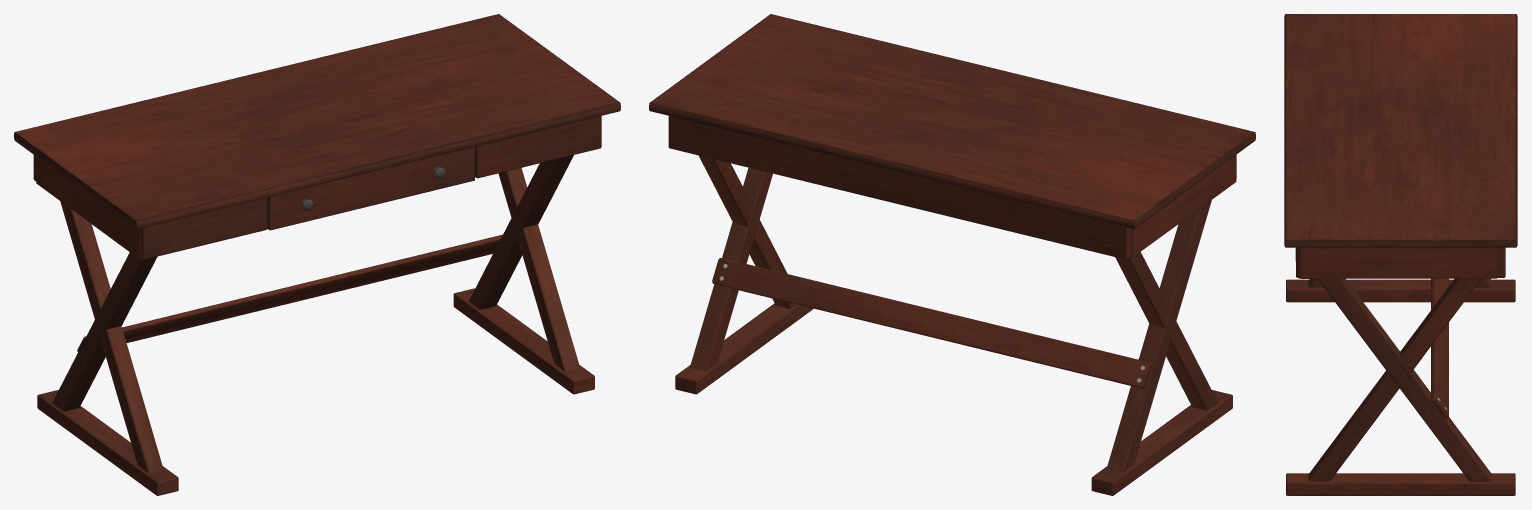
3 renders of one model, left to right at view 1: azimuth 30°, elevation 25°; view 2: azimuth 150°, elevation 25°; view 3: azimuth 270°, elevation 25°, orthographic. The views are drawn at different scales.
Visible parts, largest first — view 1: RootNode; view 2: RootNode; view 3: RootNode.
Part boxes in pixels (x1,y1,x2,y2): RootNode: (14,14,620,495); RootNode: (649,14,1255,495); RootNode: (1284,14,1517,495).
Size of the model in its own units: 1.37 by 0.7612 by 0.5997.
1 material, 1 textured.
